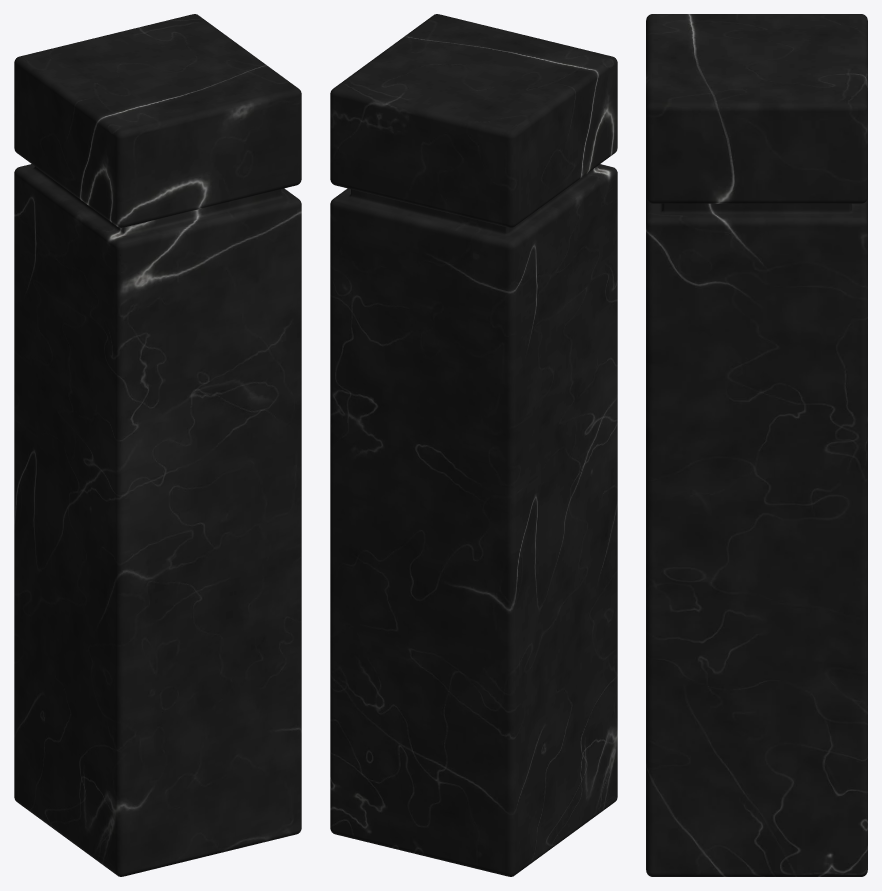
The model's file is king-black.glb.
The picture shows the model from 3 angles, left to right: view 1: azimuth 30°, elevation 25°; view 2: azimuth 150°, elevation 25°; view 3: azimuth 270°, elevation 25°; orthographic projection. The views are drawn at different scales.
Parts seen in each view (by area): view 1: kral_cerny; view 2: kral_cerny; view 3: kral_cerny.
Boxes of the visible parts, bbox=[...] form: kral_cerny: bbox=[14, 14, 301, 876]; kral_cerny: bbox=[330, 14, 617, 876]; kral_cerny: bbox=[646, 14, 867, 876].
Bounding box in the file's own units: 0.4287 × 1.65 × 0.4287.
1 material, 1 textured.
